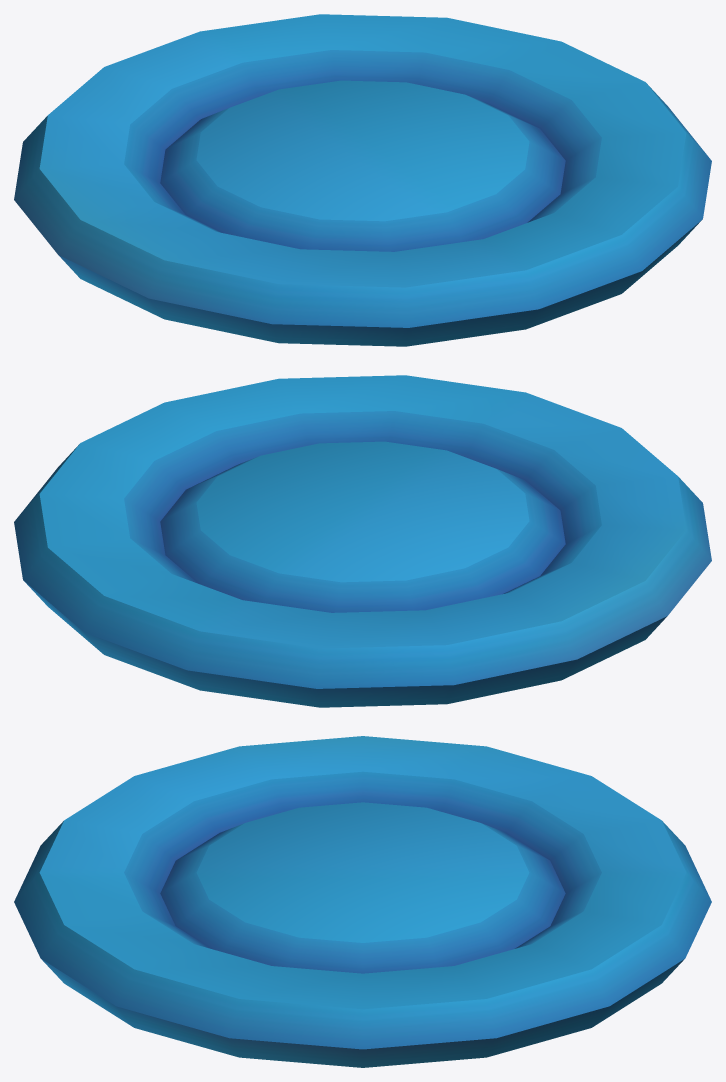
File: board.token_blue.glb
The picture shows the model from 3 angles, top to bottom: view 1: azimuth 30°, elevation 25°; view 2: azimuth 150°, elevation 25°; view 3: azimuth 270°, elevation 25°; orthographic projection.
Parts seen in each view (by area): view 1: token_blue; view 2: token_blue; view 3: token_blue.
Part boxes in pixels (x1,y1,x2,y2): token_blue: (14, 14, 711, 346); token_blue: (14, 375, 711, 707); token_blue: (14, 736, 711, 1067).
Bounding box in the file's own units: 0.0288 × 0.00267 × 0.0288.
Materials: 1 (1 with a texture image).
